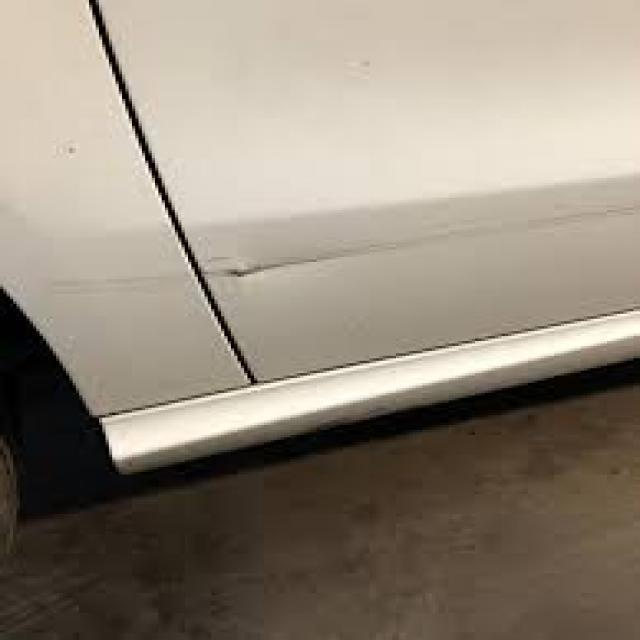dent-or-scratch: (23, 199, 640, 307)
